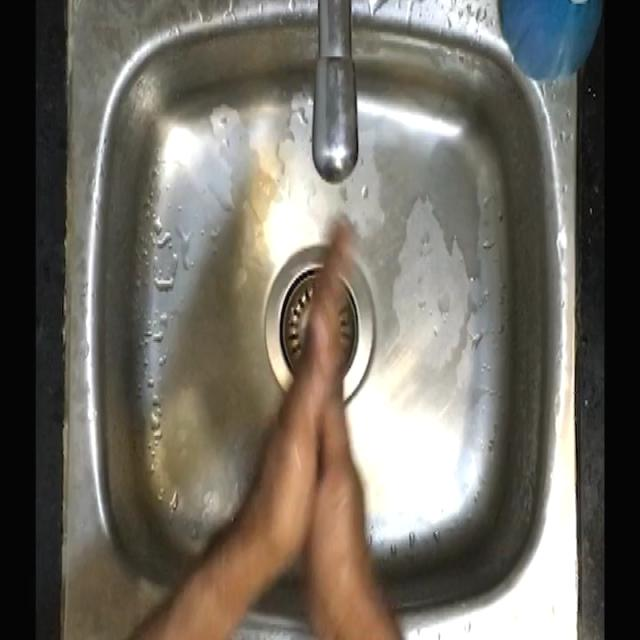step_1: (242, 200, 390, 592)
